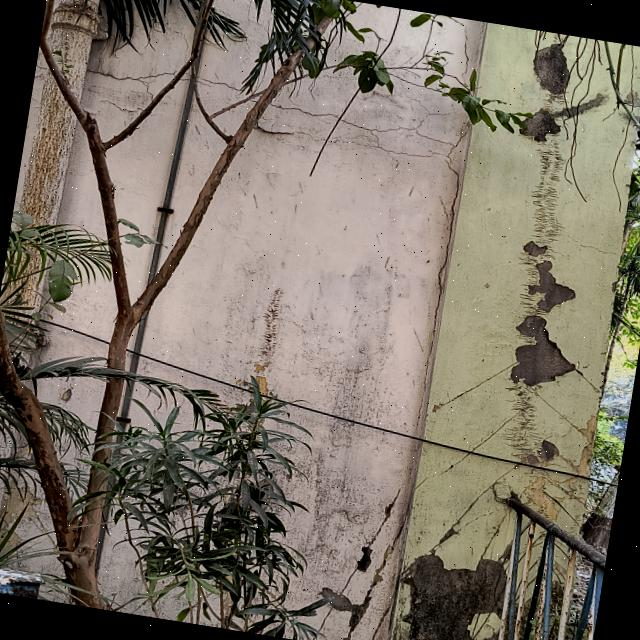Crack: (423, 147, 464, 389), (394, 87, 452, 142), (89, 73, 152, 114)
Paint Peeling: (520, 476, 565, 518)
Scaling: (509, 225, 576, 432), (260, 105, 462, 158), (403, 550, 506, 640), (533, 43, 570, 104), (520, 106, 562, 143), (534, 188, 557, 225)
